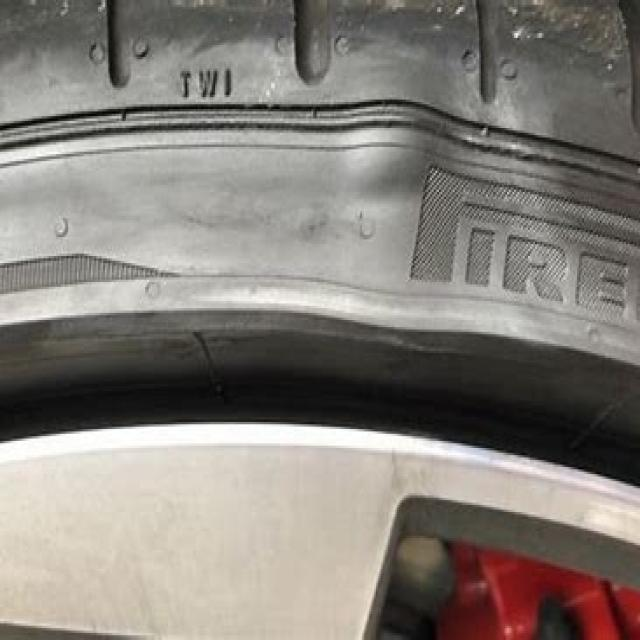Bulge: (323, 34, 466, 212)
